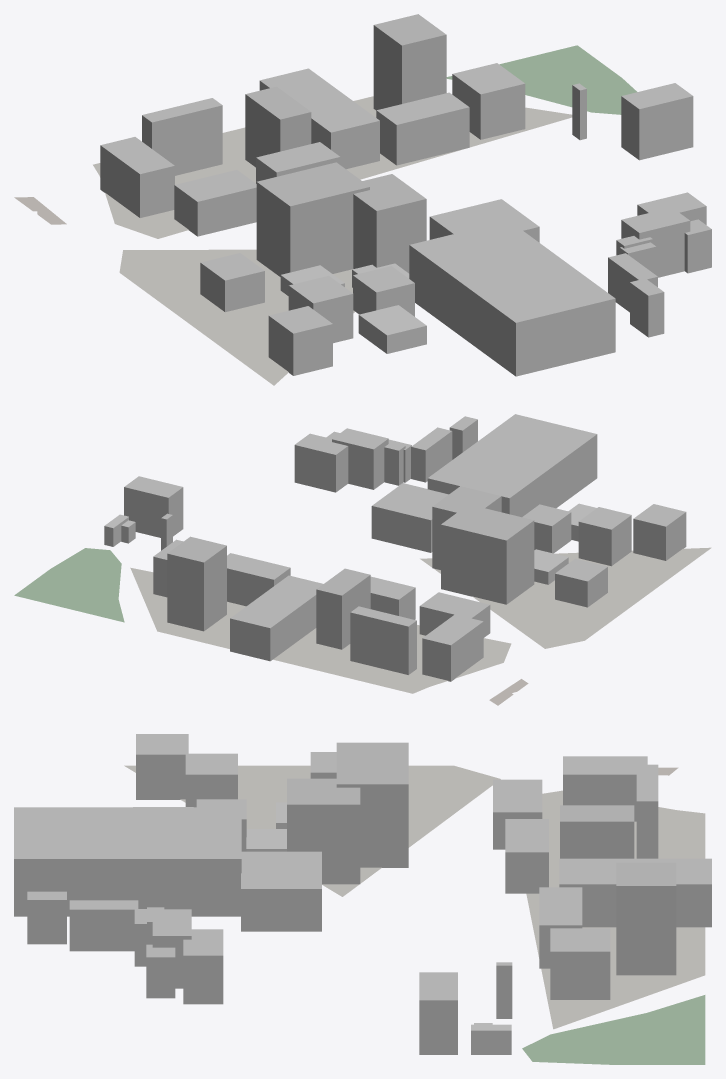
Rendered from 125_91_mid.glb.
The picture shows the model from 3 angles, top to bottom: view 1: azimuth 30°, elevation 25°; view 2: azimuth 150°, elevation 25°; view 3: azimuth 270°, elevation 25°; orthographic projection. The views are drawn at different scales.
Bounding box in the file's own units: 500 × 71.23 × 492.
